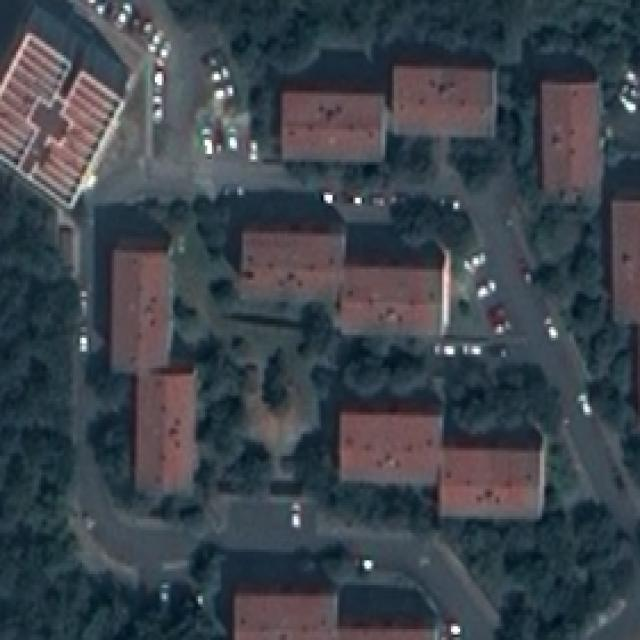Batiment: (339, 398, 545, 519), (0, 32, 122, 207), (226, 190, 345, 301), (343, 225, 450, 334), (234, 594, 428, 639), (135, 368, 198, 494), (340, 412, 441, 485), (110, 250, 169, 372), (281, 93, 382, 162), (392, 67, 493, 136), (541, 80, 601, 195), (614, 199, 640, 323)
